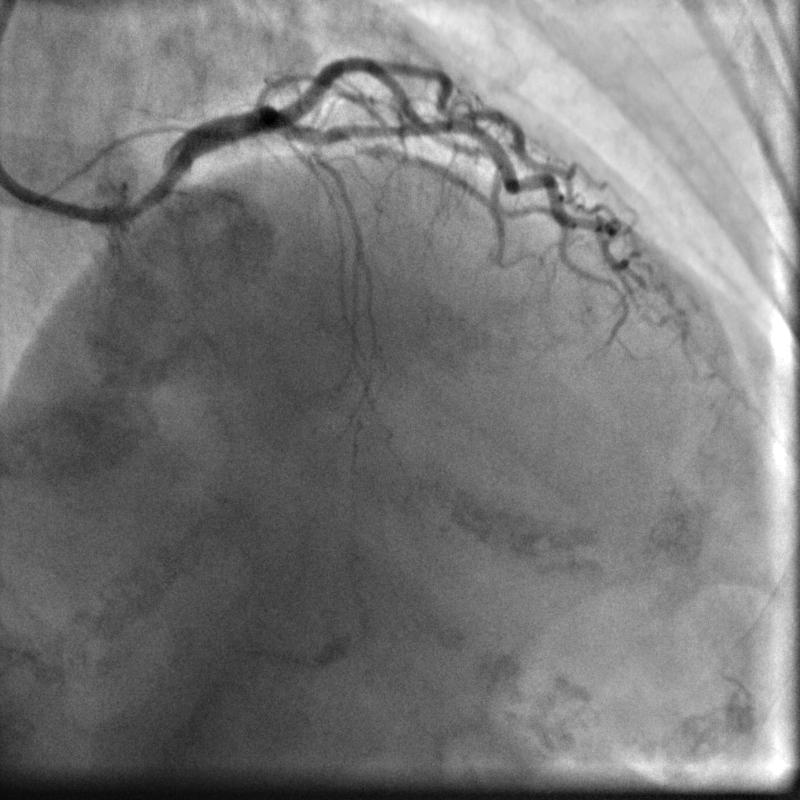Stenosis: (346, 135, 379, 152)
